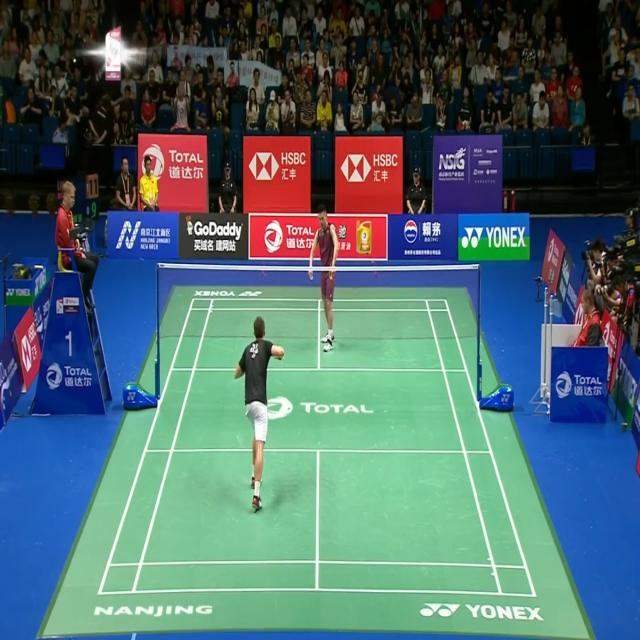Player1: (233, 315, 285, 509)
Player2: (308, 204, 342, 351)
